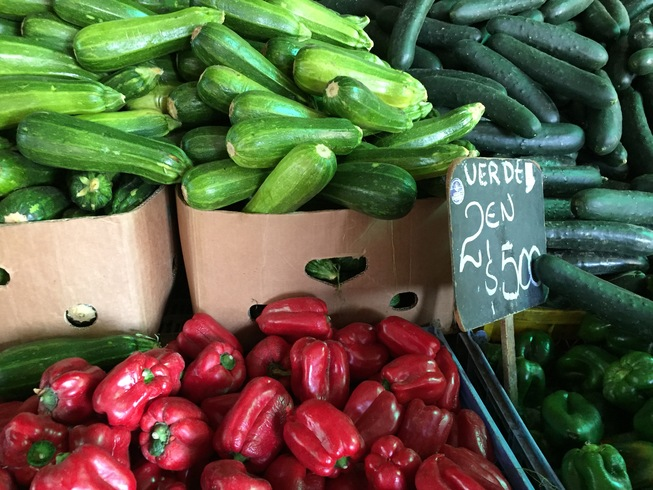precio: (449, 159, 561, 337)
